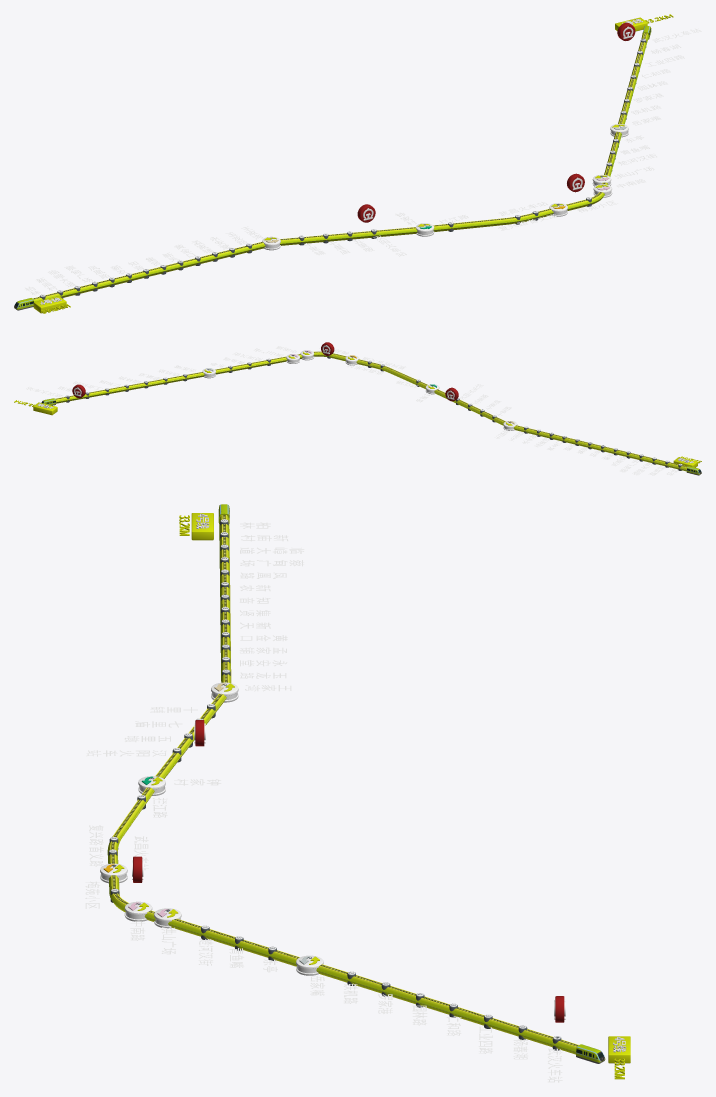
The picture shows the model from 3 angles, top to bottom: view 1: azimuth 30°, elevation 25°; view 2: azimuth 150°, elevation 25°; view 3: azimuth 270°, elevation 25°; orthographic projection. The views are drawn at different scales.
Visible parts, largest first — view 1: 4号线; view 2: 4号线; view 3: 4号线.
Boxes of the visible parts, bbox=[...] form: 4号线: bbox=[33, 33, 648, 301]; 4号线: bbox=[55, 351, 687, 471]; 4号线: bbox=[107, 515, 578, 1054].
Size of the model in its own units: 5.39 by 0.1745 by 2.15.
Materials: 12 (3 with a texture image).
